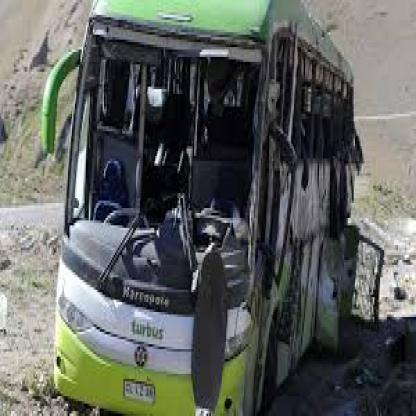accident: (37, 3, 374, 412)
